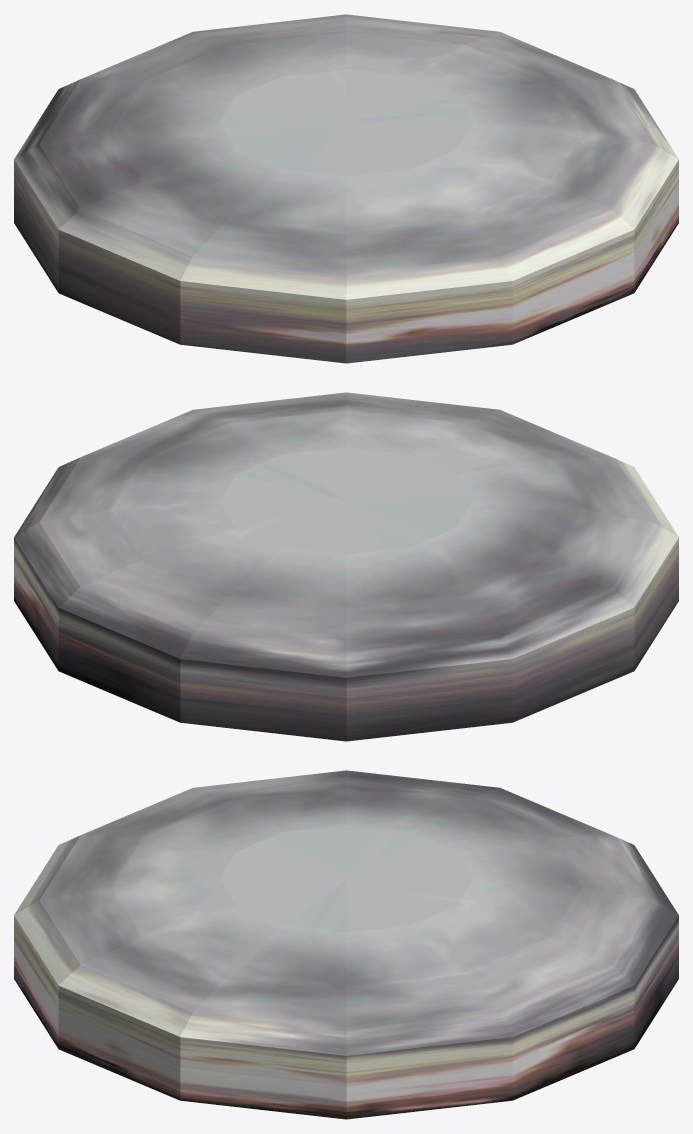
File: recovered_map_m62.glb
The picture shows the model from 3 angles, top to bottom: view 1: azimuth 30°, elevation 25°; view 2: azimuth 150°, elevation 25°; view 3: azimuth 270°, elevation 25°; orthographic projection.
Parts seen in each view (by area): view 1: S_sky; view 2: S_sky; view 3: S_sky.
Part boxes in pixels (left/top/right/bottom): S_sky: left=14, top=14, right=678, bottom=363; S_sky: left=14, top=392, right=678, bottom=741; S_sky: left=14, top=770, right=678, bottom=1119.
Size of what is drawn, in the model's own units: 1229 by 259 by 1229.
40 materials, 40 textured.
